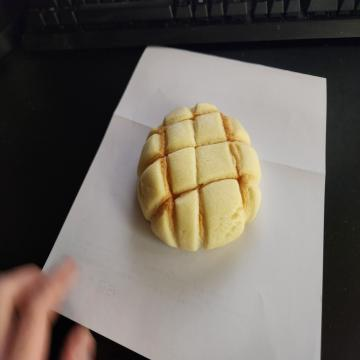melon_bread: (138, 103, 262, 247)
